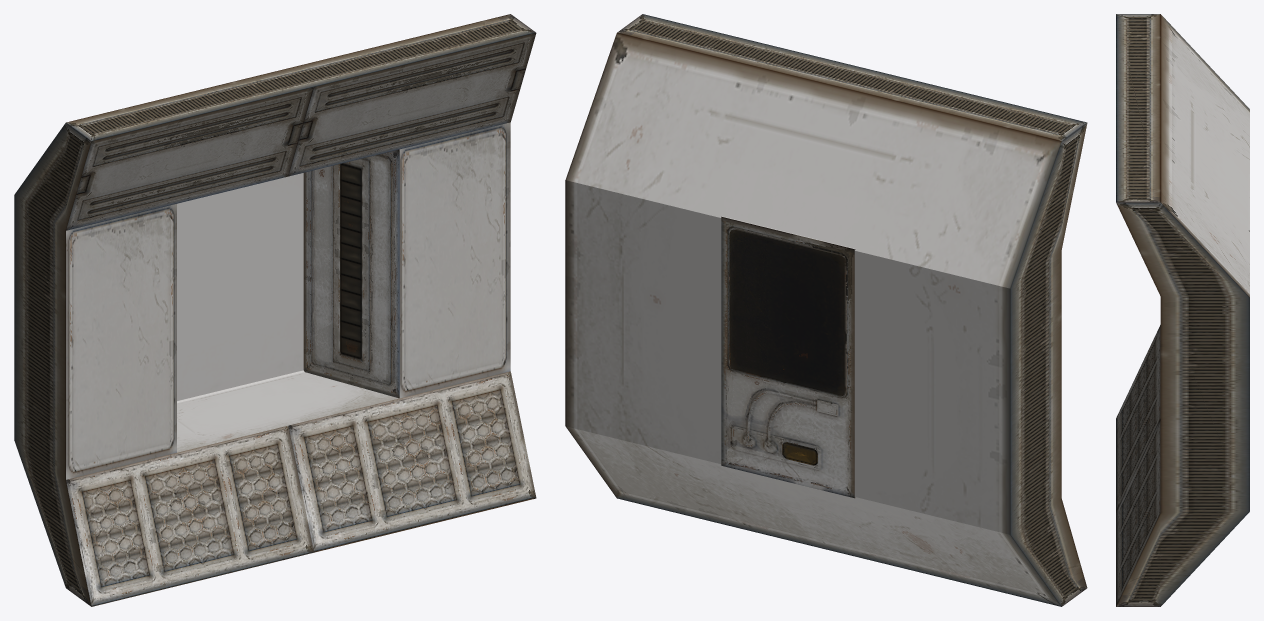
The model's file is scifi_wall10_2.FBX.
The picture shows the model from 3 angles, left to right: view 1: azimuth 30°, elevation 25°; view 2: azimuth 150°, elevation 25°; view 3: azimuth 270°, elevation 25°; orthographic projection. The views are drawn at different scales.
Parts seen in each view (by area): view 1: Plane127; view 2: Plane127; view 3: Plane127.
Boxes of the visible parts, x1,y1,x2,y2 form: Plane127: (14,14,536,606); Plane127: (565,14,1087,606); Plane127: (1116,14,1249,606).
Bounding box in the file's own units: 254 × 254 × 76.2.
